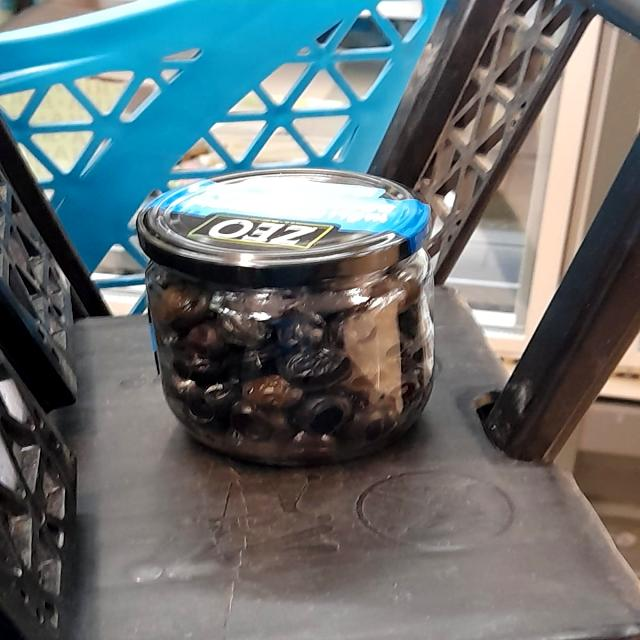olive: (108, 159, 472, 471), (156, 281, 425, 447)
